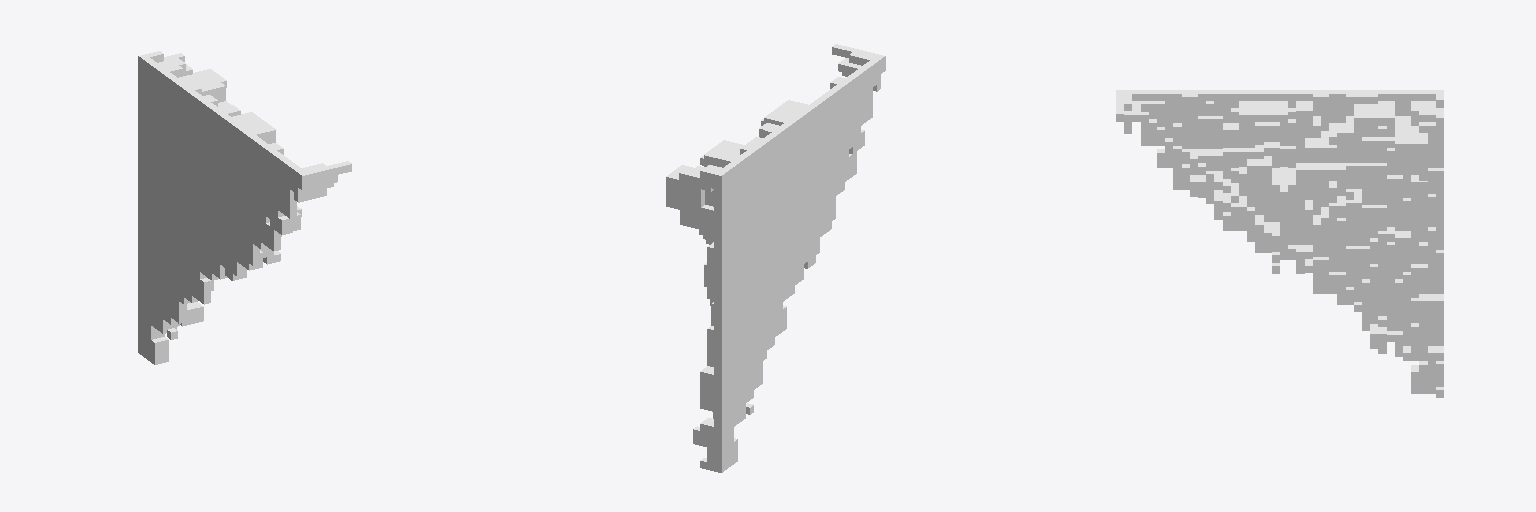
The model's file is finalwall4.obj.
3 renders of one model, left to right at view 1: azimuth 30°, elevation 25°; view 2: azimuth 150°, elevation 25°; view 3: azimuth 270°, elevation 25°, orthographic.
Parts seen in each view (by area): view 1: finalwall4; view 2: finalwall4; view 3: finalwall4.
Boxes of the visible parts, x1,y1,x2,y2 form: finalwall4: [138, 51, 351, 364]; finalwall4: [666, 44, 885, 472]; finalwall4: [1116, 90, 1443, 397].
Bounding box in the file's own units: 10 × 40 × 40.